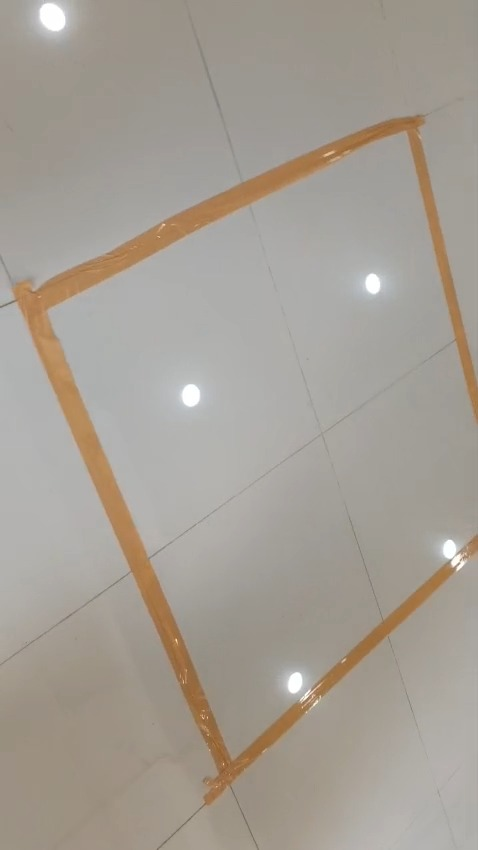floor marking: (13, 117, 477, 803)
